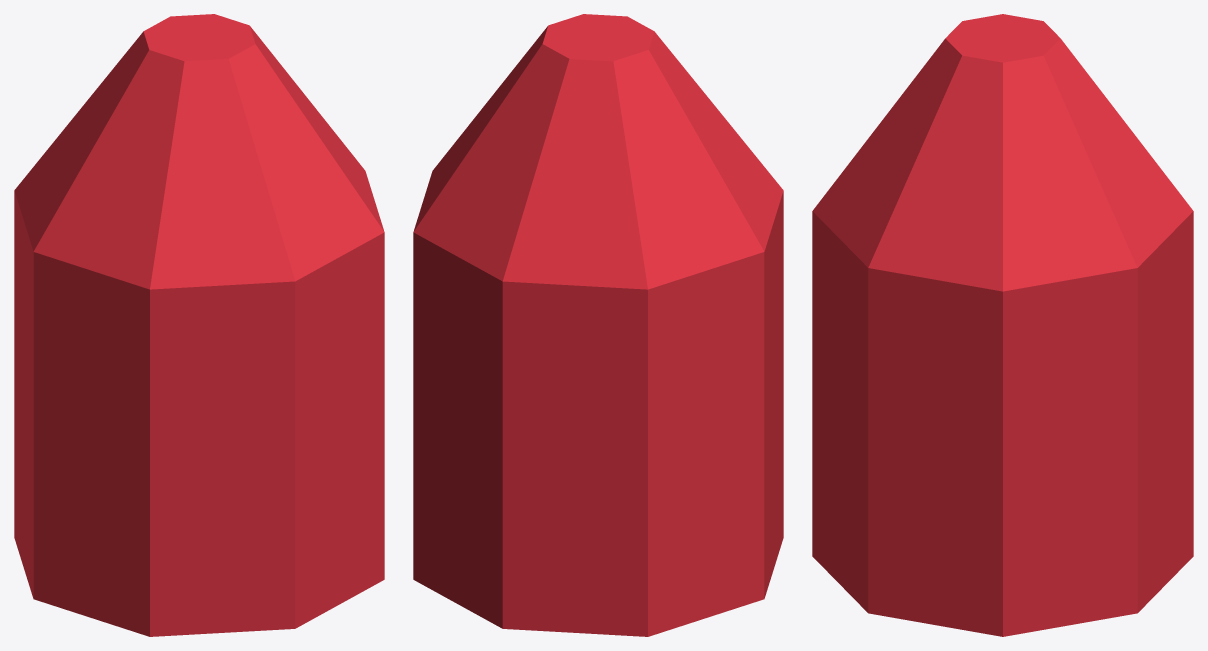
File: bullet.fbx
3 views of the same model, side by side, from view 1: azimuth 30°, elevation 25°; view 2: azimuth 150°, elevation 25°; view 3: azimuth 270°, elevation 25° (orthographic).
Parts seen in each view (by area): view 1: Circle; view 2: Circle; view 3: Circle.
Boxes of the visible parts, x1=… form: Circle: x1=14, y1=14, x2=384, y2=636; Circle: x1=413, y1=14, x2=783, y2=636; Circle: x1=812, y1=14, x2=1193, y2=636.
Bounding box in the file's own units: 200 × 300 × 200.
